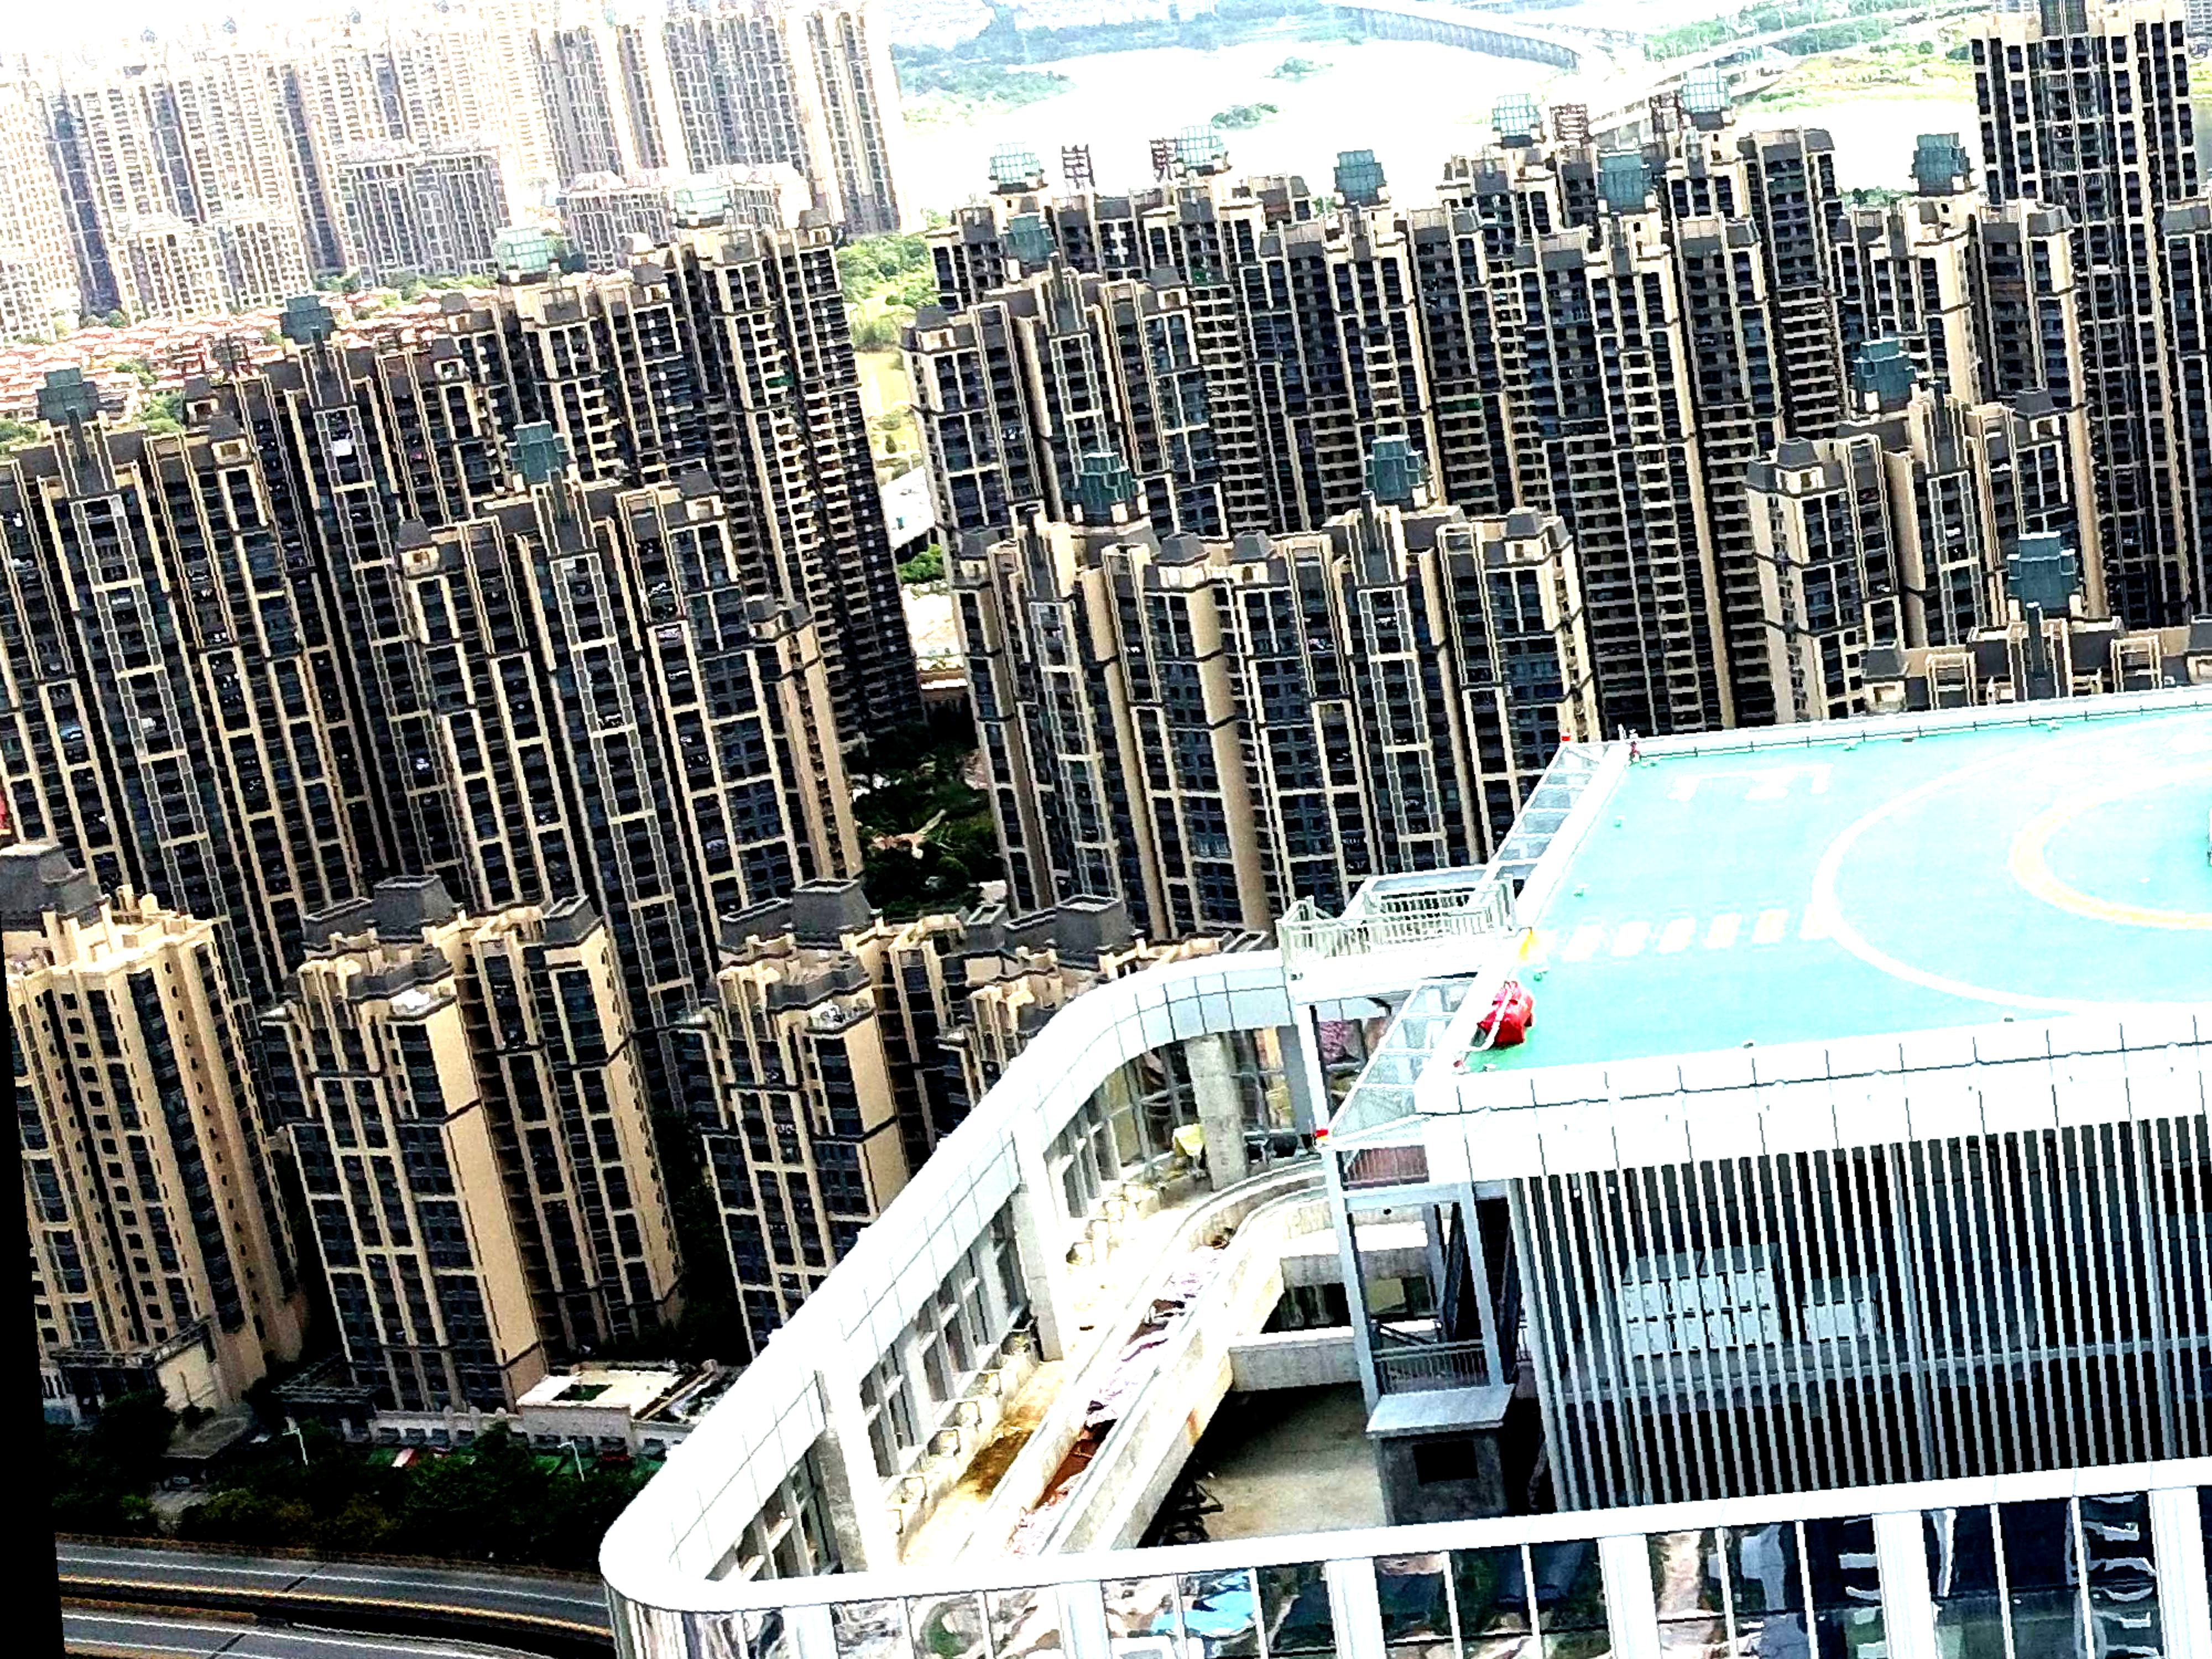Apron: (1996, 730, 2212, 971)
